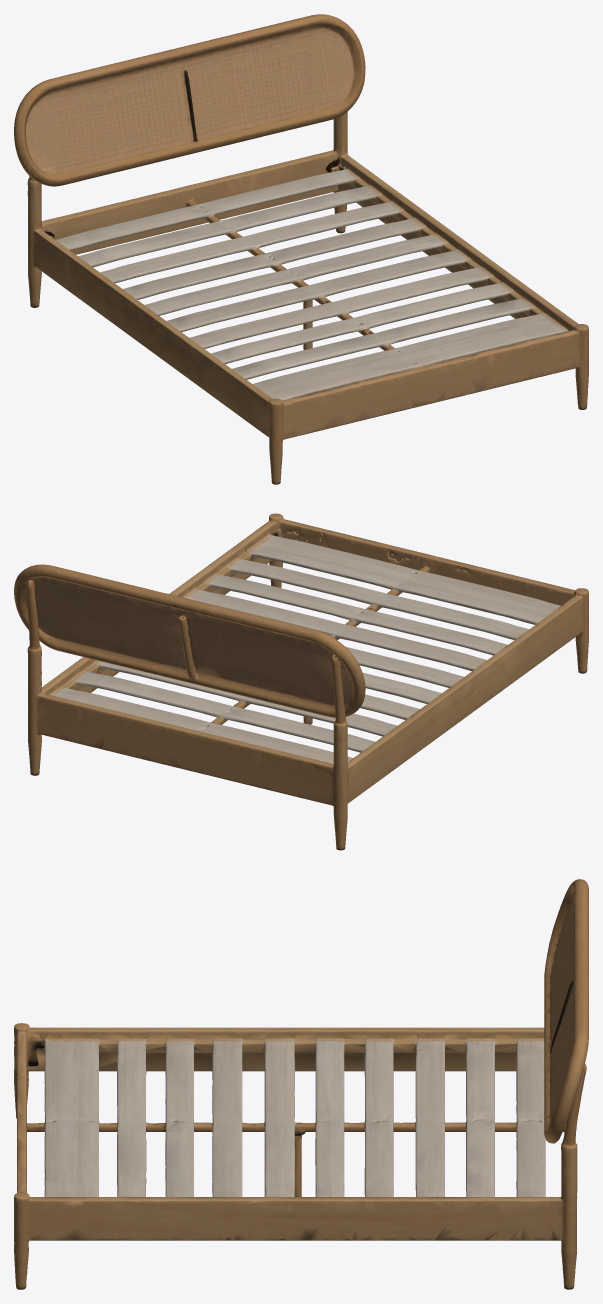
The model's file is cane-oak-bed-frame.glb.
The picture shows the model from 3 angles, top to bottom: view 1: azimuth 30°, elevation 25°; view 2: azimuth 150°, elevation 25°; view 3: azimuth 270°, elevation 25°; orthographic projection. The views are drawn at different scales.
Parts seen in each view (by area): view 1: world; view 2: world; view 3: world.
Part boxes in pixels (box(x1,y1,x2,y2)): world: box(14, 14, 588, 484); world: box(14, 513, 588, 850); world: box(14, 879, 588, 1289).
Size of the model in its own units: 0.7972 by 0.4753 by 1.
Materials: 1 (1 with a texture image).
